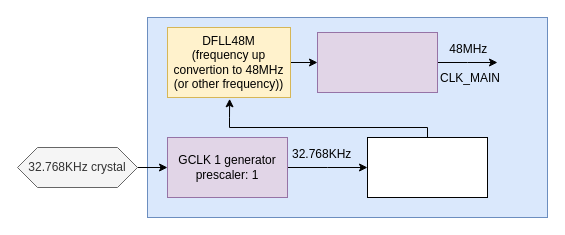
Image size: 565x235. Some labels were removed from this diagram. Each missing label, with the box of its shape:
GCLK 0 generator prescaler: 1: (316, 32, 438, 92)
GCLK MUX 0 (reference of DFLL48M): (366, 136, 488, 198)
